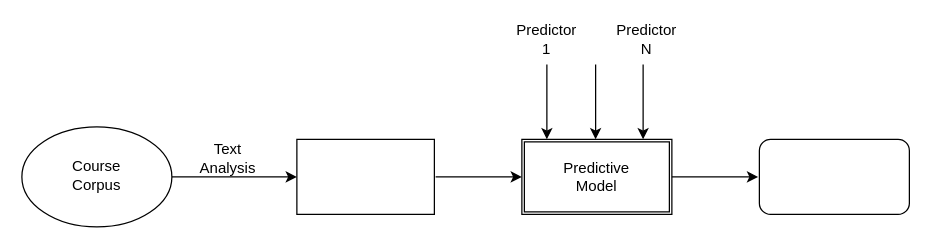
Some shapes in this 931 by 249 pixel diagram are drawn without their labels. Each missing label, with the centre of its shape:
Course Outcome: point (833, 176)
Prerequisite Weights: point (365, 176)
